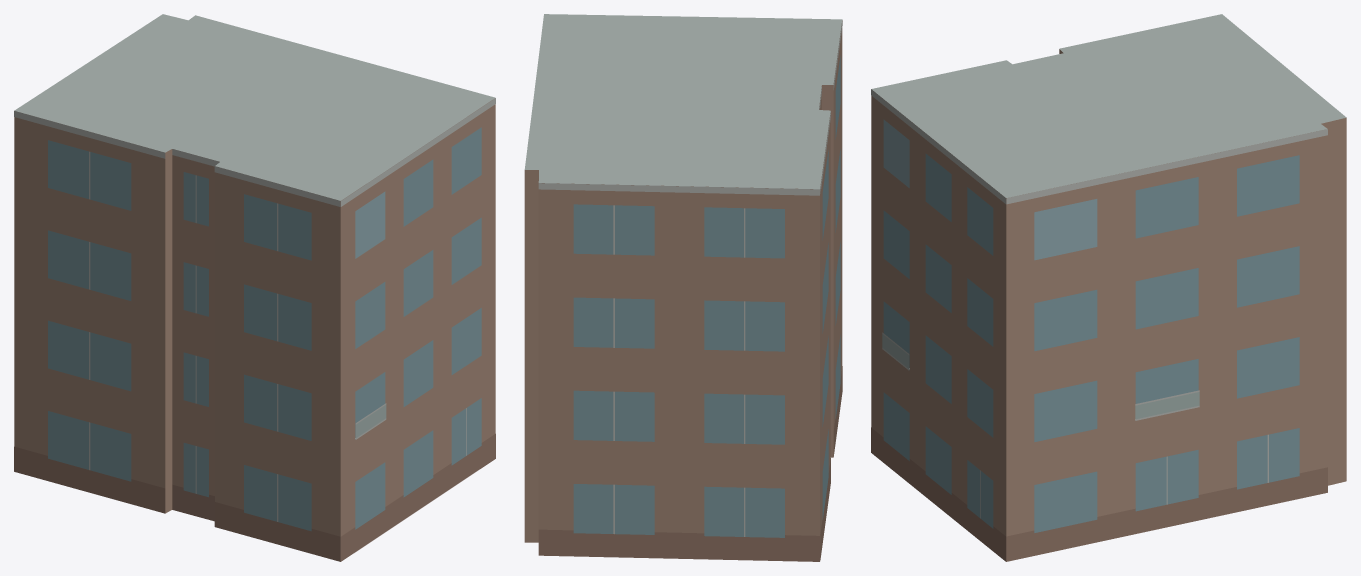
File: survey-upis-32742416.glb
3 renders of one model, left to right at view 1: azimuth 30°, elevation 25°; view 2: azimuth 150°, elevation 25°; view 3: azimuth 270°, elevation 25°, orthographic. The views are drawn at different scales.
Visible parts, largest first — view 1: survey-upis-32742416.tmp; view 2: survey-upis-32742416.tmp; view 3: survey-upis-32742416.tmp.
Part boxes in pixels (x1=…): survey-upis-32742416.tmp: x1=14, y1=14, x2=495, y2=561; survey-upis-32742416.tmp: x1=524, y1=14, x2=842, y2=561; survey-upis-32742416.tmp: x1=871, y1=14, x2=1346, y2=561.
Bounding box in the file's own units: 15.29 × 14.07 × 16.69.
